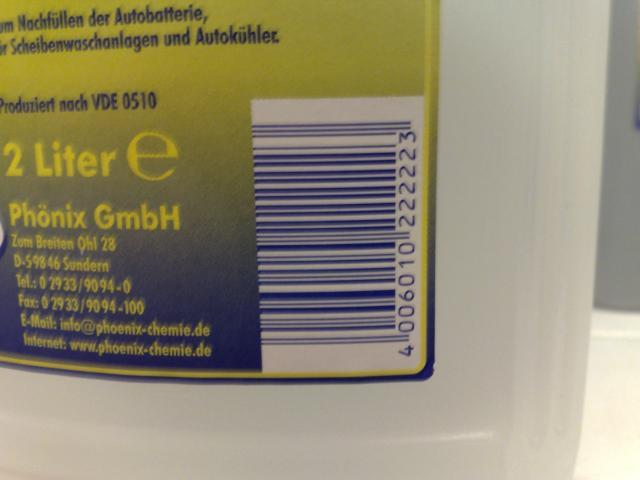Barcode: (254, 118, 422, 363)
